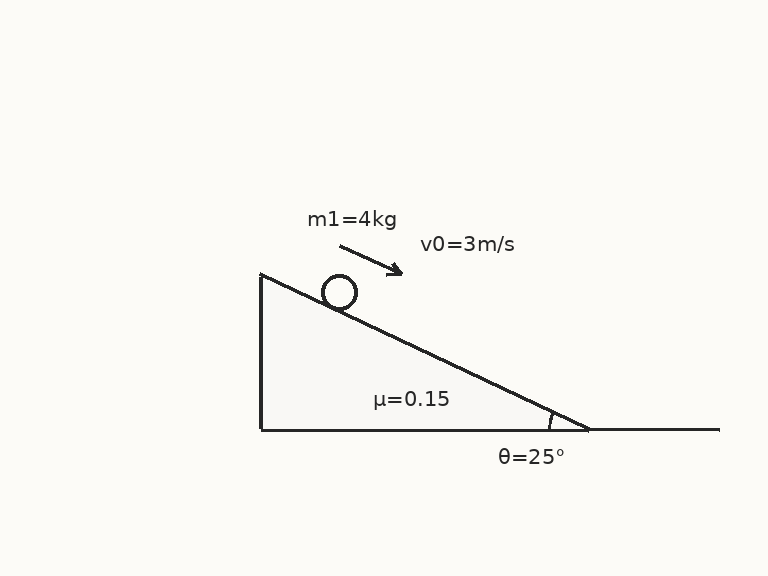ball: (319, 272, 359, 312)
ramp: (258, 274, 591, 431)
